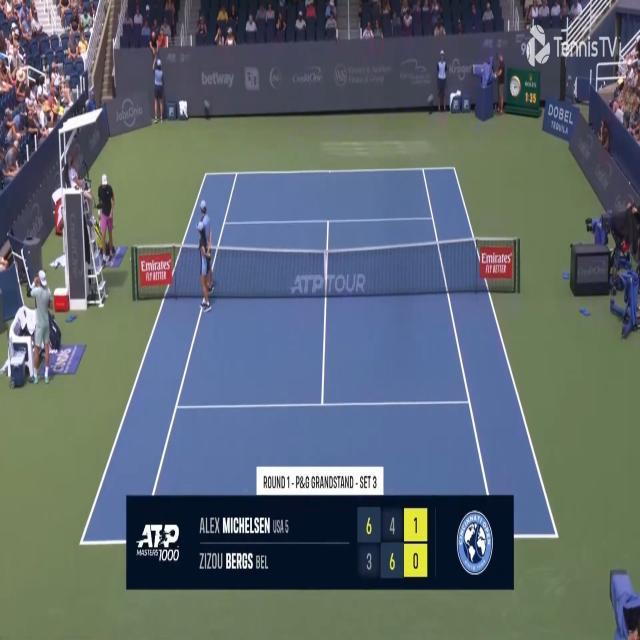tennis-player: (28, 266, 52, 384), (97, 166, 116, 266)
